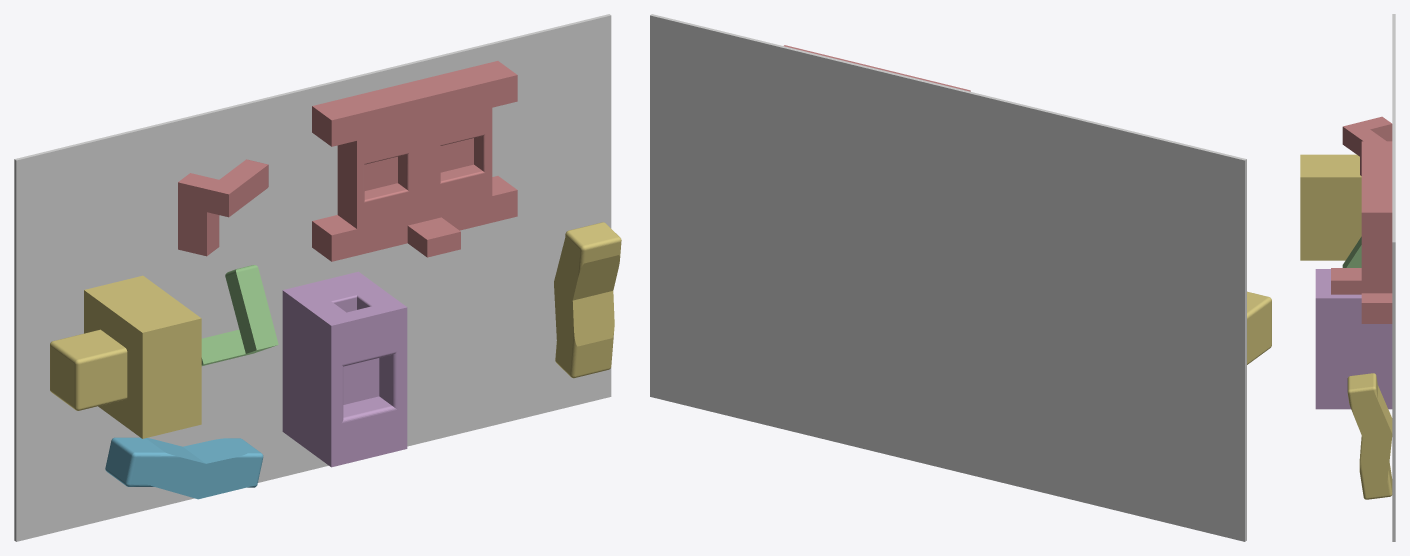
Rendered from pickup_layout.glb.
The picture shows the model from 3 angles, left to right: view 1: azimuth 30°, elevation 25°; view 2: azimuth 150°, elevation 25°; view 3: azimuth 270°, elevation 25°; orthographic projection. The views are drawn at different scales.
Parts seen in each view (by area): view 1: world, 0.obj, 3.obj, 6.obj, 1.obj, 2.obj, 5.obj, 4.obj; view 2: world, 6.obj; view 3: 3.obj, 0.obj, 6.obj, 1.obj, world, 5.obj, 4.obj.
Boxes of the visible parts, x1,y1,x2,y2 form: world: [14, 14, 611, 541]; 0.obj: [312, 61, 517, 261]; 3.obj: [282, 271, 407, 467]; 6.obj: [50, 275, 201, 438]; 1.obj: [554, 222, 621, 378]; 2.obj: [105, 437, 263, 499]; 5.obj: [178, 159, 268, 256]; 4.obj: [201, 265, 278, 365]; world: [650, 14, 1246, 541]; 6.obj: [1247, 291, 1271, 364]; 3.obj: [1315, 269, 1392, 409]; 0.obj: [1331, 141, 1392, 323]; 6.obj: [1300, 154, 1361, 260]; 1.obj: [1347, 373, 1392, 499]; world: [1392, 14, 1395, 541]; 5.obj: [1342, 116, 1392, 175]; 4.obj: [1342, 236, 1361, 267].
Bounding box in the file's own units: 35.2 × 21.56 × 6.2.
